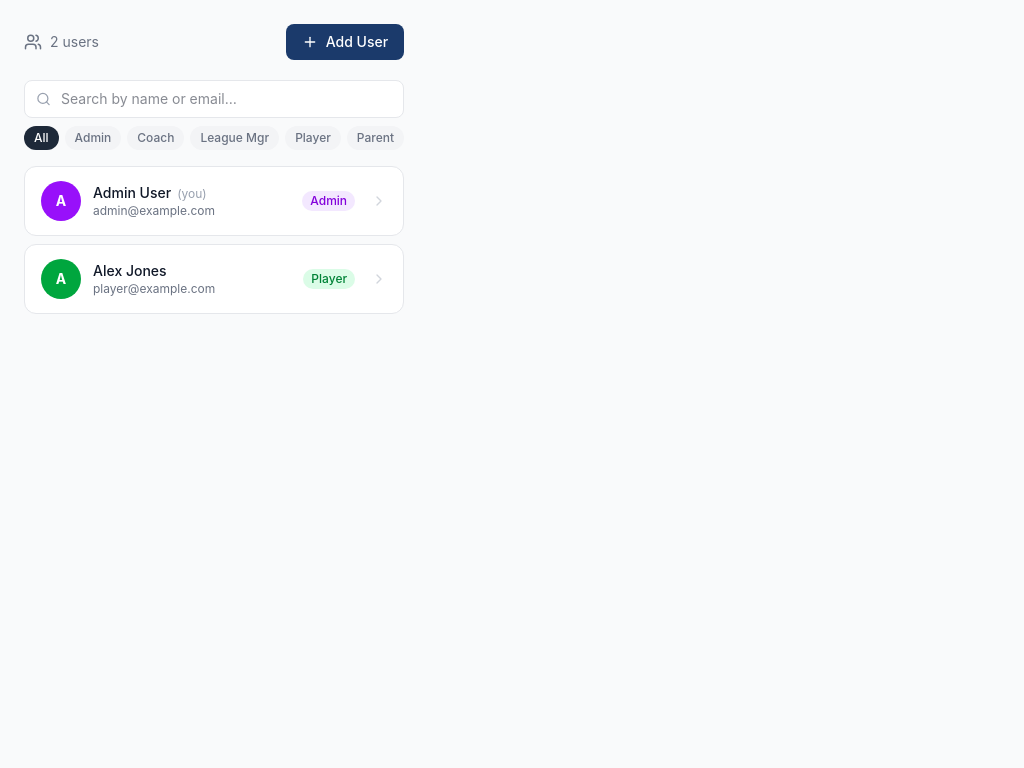
Test: UsersPage — reset password button › dismisses the toast when the Dismiss button is clicked
Expected: the text "Alex Jones" is shown, [93,262,167,279]
Step 1. Click the button "A Alex Jones player@example.com Player" → click(214, 279), box [24,244,404,314]
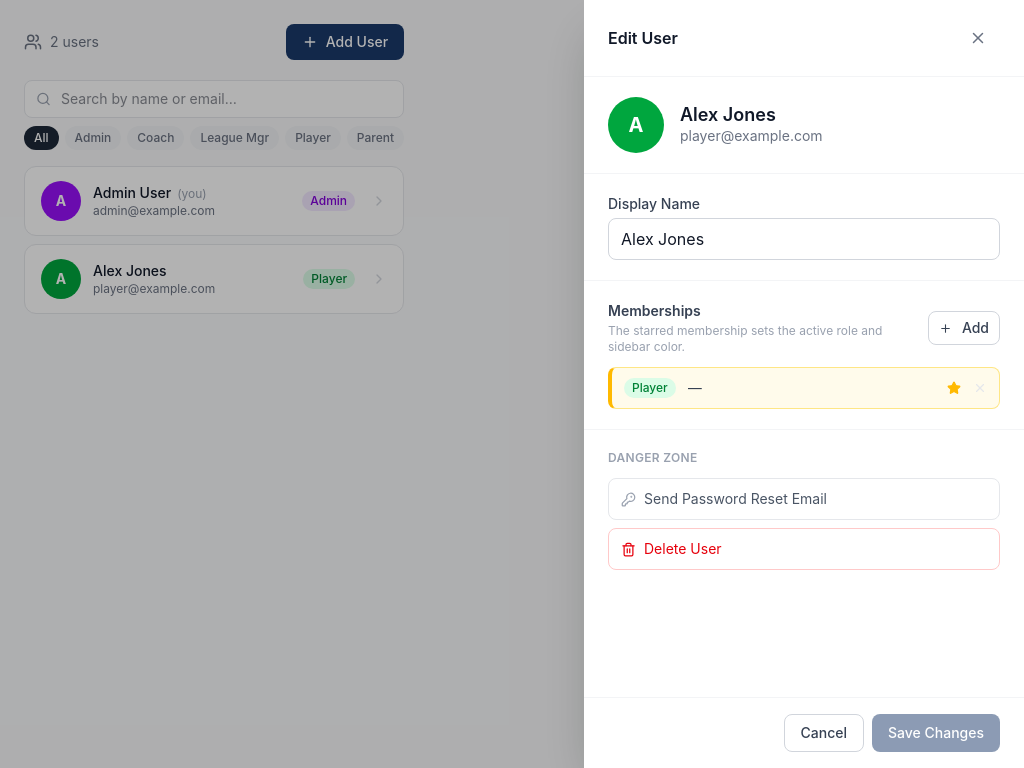
Step 2. Click the button "Send Password Reset Email" → click(804, 499), box [608,478,1000,520]
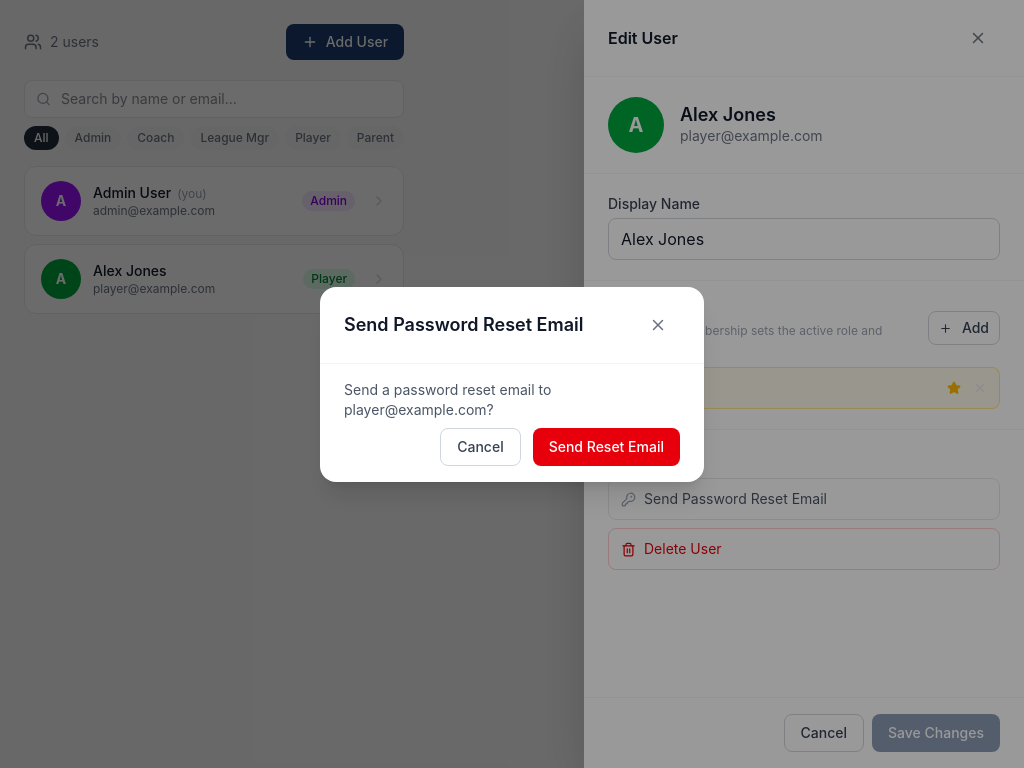
Step 3. Click the button "Send Reset Email" → click(606, 446), box [533,428,680,466]
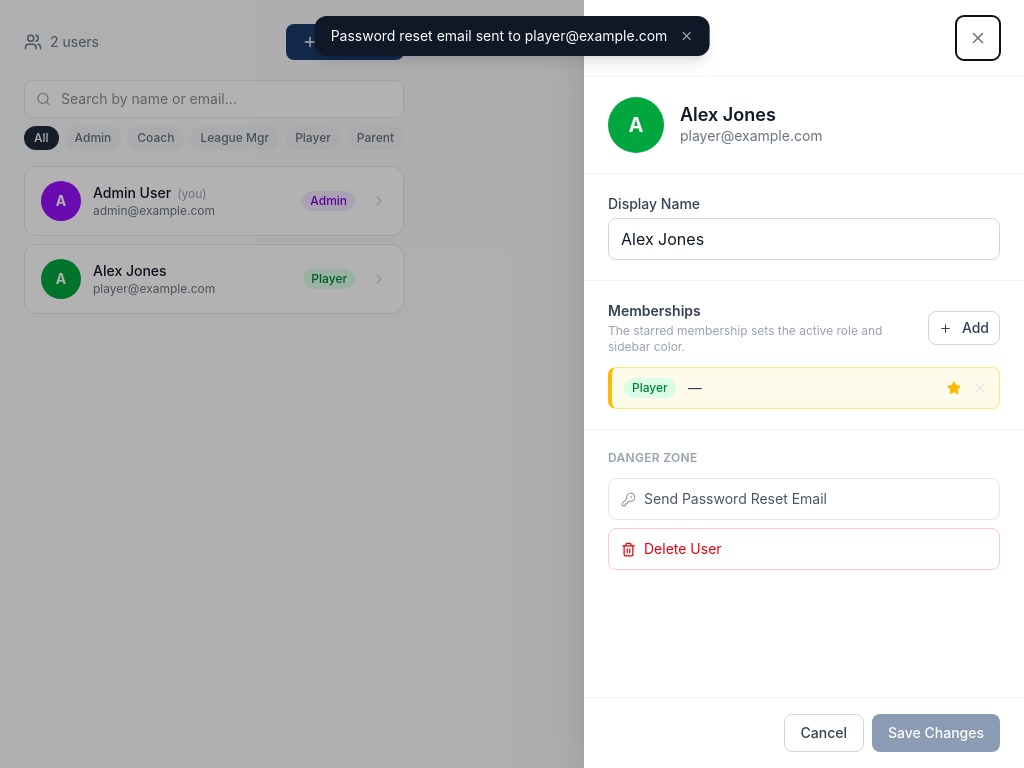
Now the message "Password reset email sent to player@example.com" is shown, box [315,16,709,56]
Step 4. Click the button named "Dismiss" → click(686, 36), box [679,29,693,43]
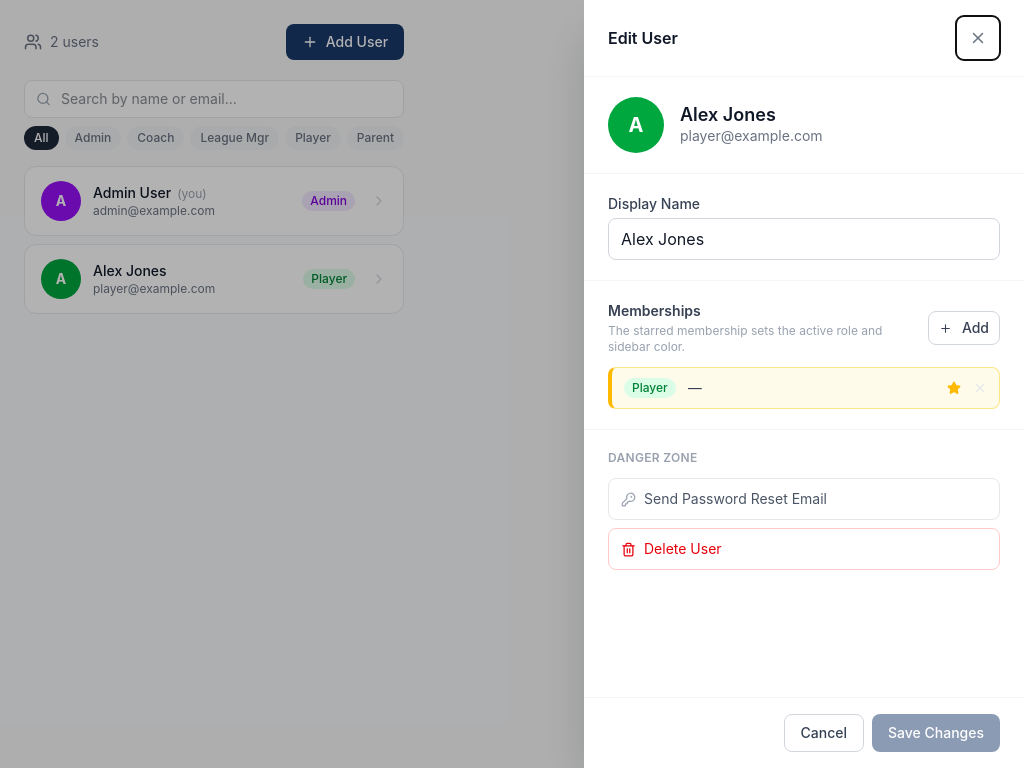
Now the message "Password reset email sent to player@example.com" is gone
